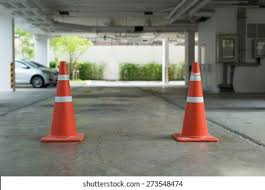car: (3, 57, 60, 88)
cone: (167, 59, 223, 145), (39, 60, 87, 146)
